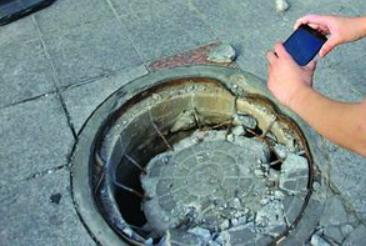wellcover: (74, 62, 327, 246)
